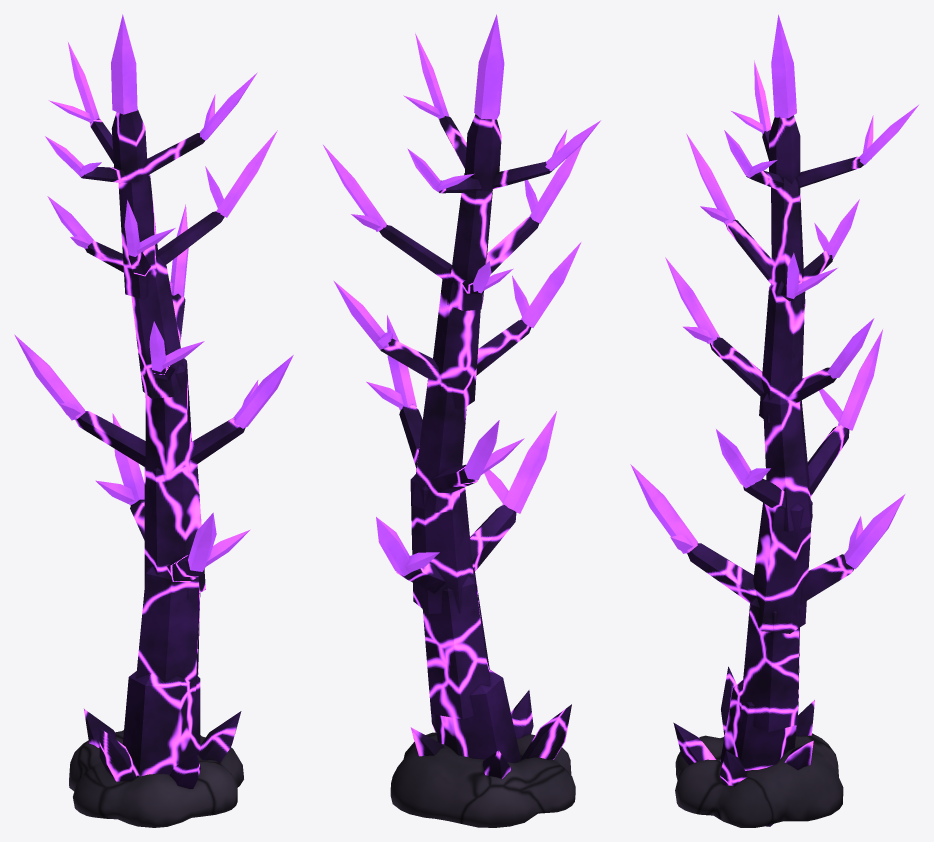
File: arbol_cristal_oscuro.fbx
3 renders of one model, left to right at view 1: azimuth 30°, elevation 25°; view 2: azimuth 150°, elevation 25°; view 3: azimuth 270°, elevation 25°, orthographic. The views are drawn at different scales.
Visible parts, largest first — view 1: tronco, ramas_neon, base; view 2: tronco, ramas_neon, base; view 3: tronco, ramas_neon, base.
Boxes of the visible parts, <box> form: tronco: <box>75,109,245,788</box>; ramas_neon: <box>14,14,293,571</box>; base: <box>69,730,243,827</box>; tronco: <box>379,114,571,778</box>; ramas_neon: <box>323,14,600,576</box>; base: <box>390,732,575,827</box>; tronco: <box>673,115,863,826</box>; ramas_neon: <box>630,14,918,569</box>; base: <box>675,733,843,827</box>.
Bounding box in the file's own units: 4 × 12 × 4.
Materials: 1 (1 with a texture image).
